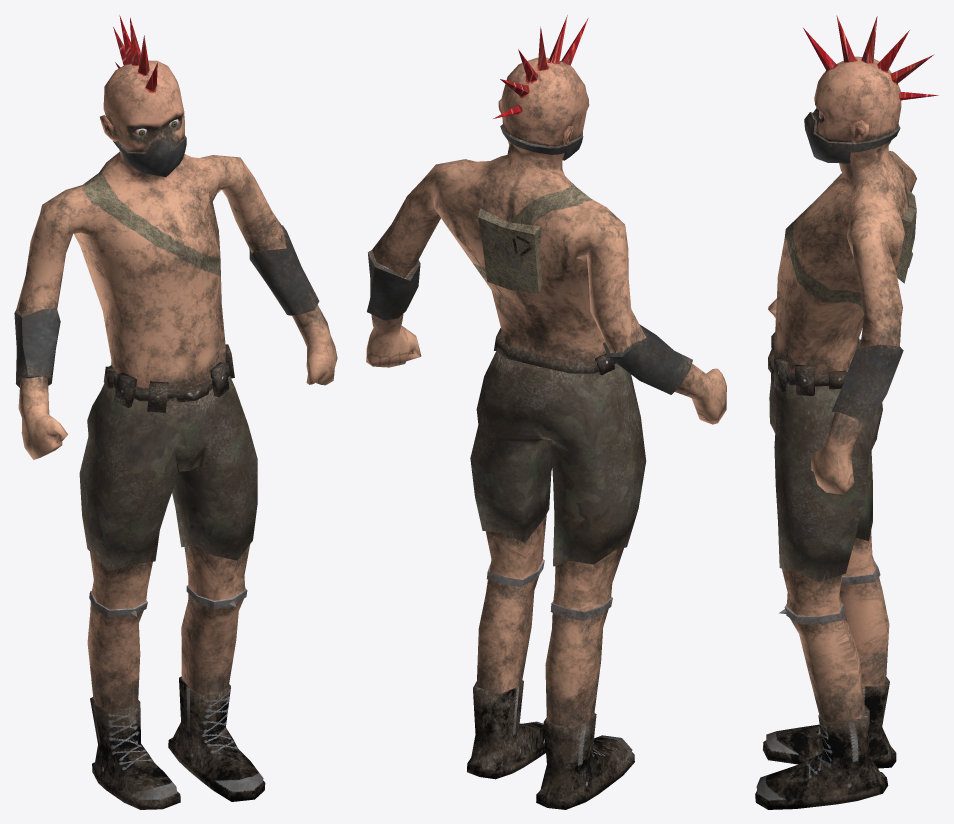
File: Anim_perder_1_npc2.0019.obj
3 views of the same model, side by side, from view 1: azimuth 30°, elevation 25°; view 2: azimuth 150°, elevation 25°; view 3: azimuth 270°, elevation 25° (orthographic). The views are drawn at different scales.
Visible parts, largest first — view 1: polySurface1; view 2: polySurface1; view 3: polySurface1.
Boxes of the visible parts, <box> form: polySurface1: <box>14,15,337,809</box>; polySurface1: <box>366,15,726,809</box>; polySurface1: <box>755,15,938,809</box>.
Size of the model in its own units: 4.61 by 10.13 by 2.24.
2 materials, 2 textured.
